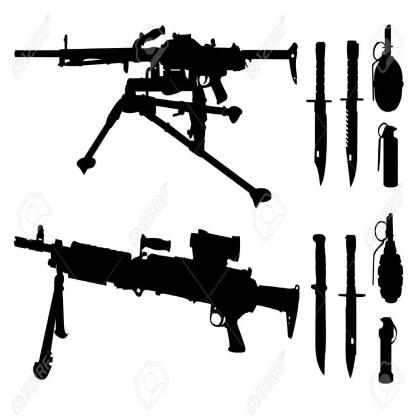Grenade: (371, 210, 405, 304), (371, 22, 404, 113), (376, 120, 400, 190), (376, 315, 398, 386)
Gun: (13, 22, 300, 210), (12, 223, 301, 381)
Knife: (338, 233, 367, 380), (307, 39, 332, 186), (340, 38, 363, 187), (310, 231, 328, 376)
